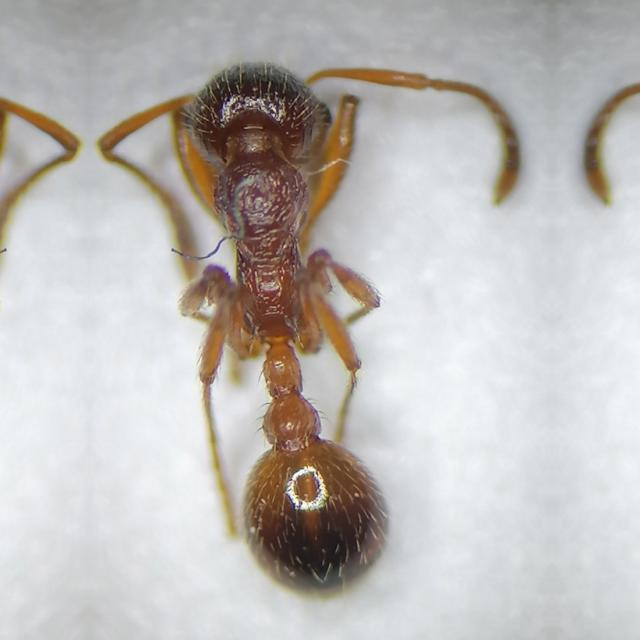Myrmica: (124, 28, 432, 612)
